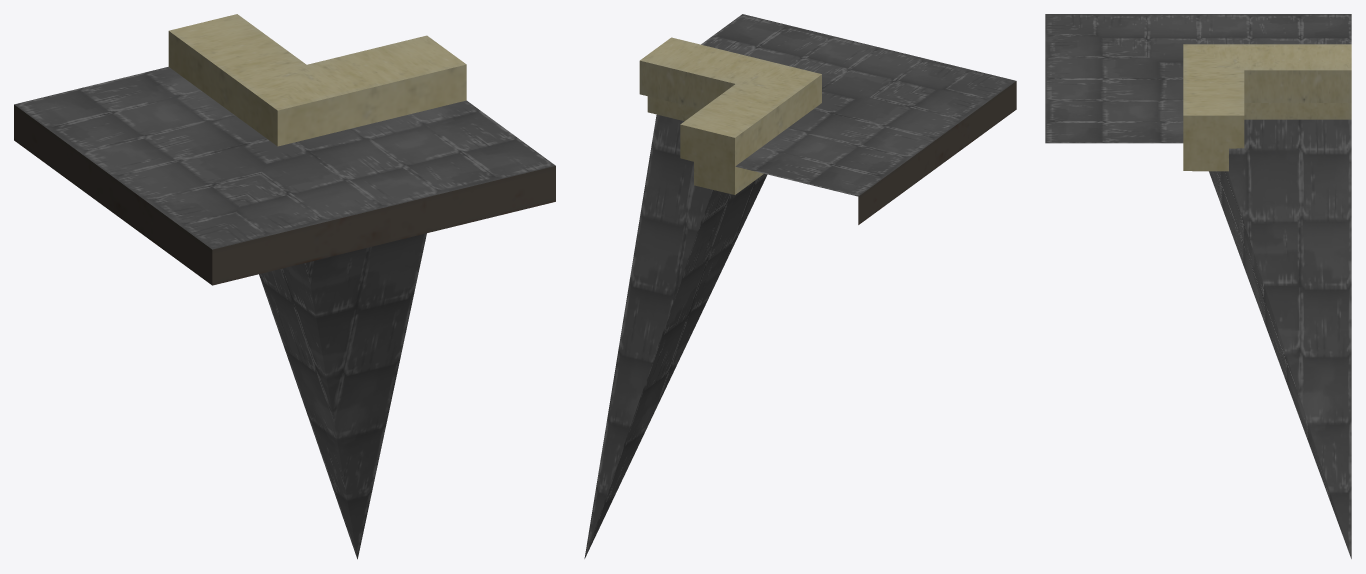
Rendered from roof_slatecornice_innercorner.glb.
3 views of the same model, side by side, from view 1: azimuth 30°, elevation 25°; view 2: azimuth 150°, elevation 25°; view 3: azimuth 270°, elevation 25° (orthographic). The views are drawn at different scales.
Parts seen in each view (by area): view 1: Roof_SlateCornice_InnerCorner; view 2: Roof_SlateCornice_InnerCorner; view 3: Roof_SlateCornice_InnerCorner.
Part boxes in pixels (box(x1,y1,x2,y2)): Roof_SlateCornice_InnerCorner: box(14, 14, 555, 559); Roof_SlateCornice_InnerCorner: box(584, 14, 1016, 558); Roof_SlateCornice_InnerCorner: box(1045, 14, 1351, 558).
Size of the model in its own units: 2 by 3.2 by 2.
3 materials, 3 textured.
